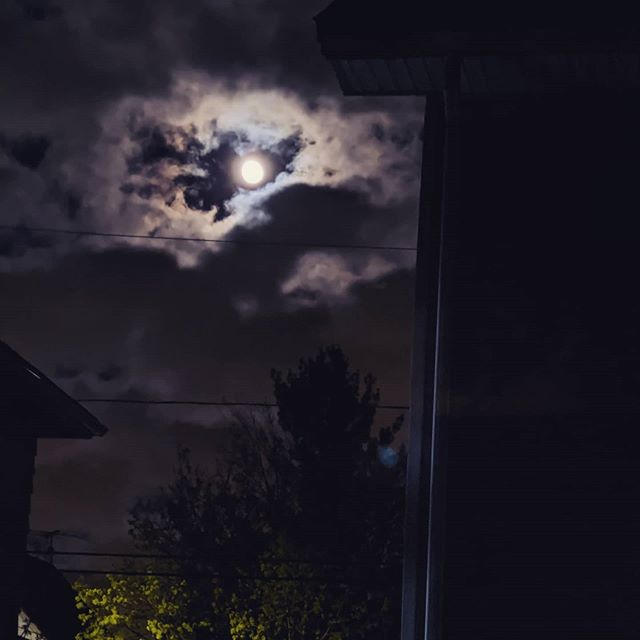building: (354, 1, 640, 633)
moon: (234, 155, 265, 185)
sky: (1, 1, 393, 379)
tree: (66, 363, 387, 638)
